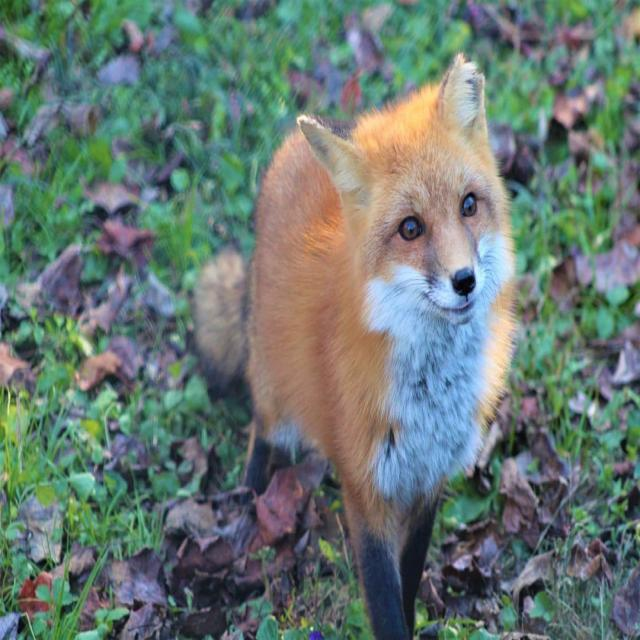fox: (191, 51, 521, 638)
